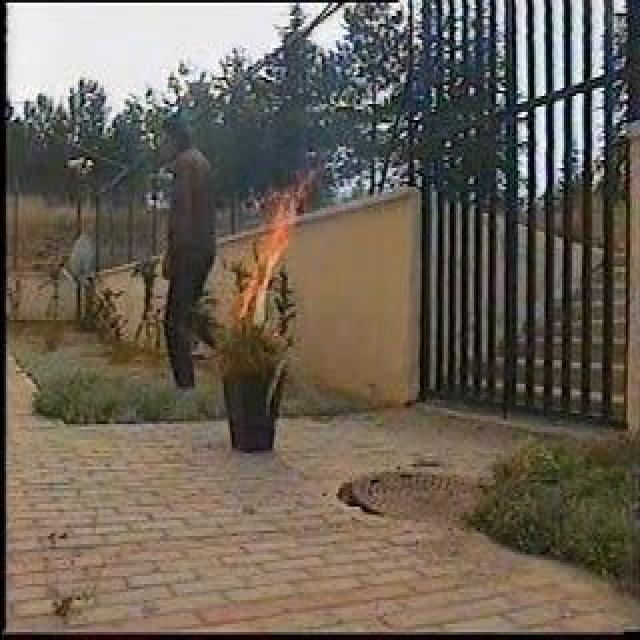fire: (230, 181, 303, 323)
